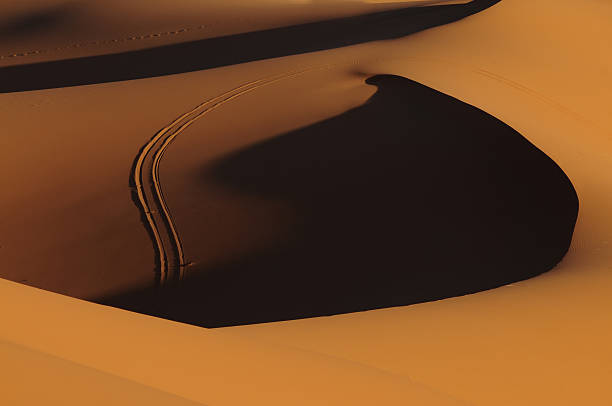vehicle_track: (130, 65, 327, 284)
